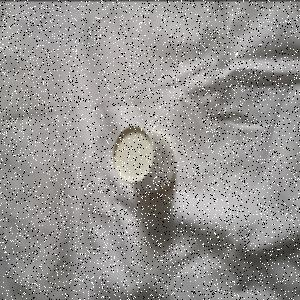Cup: (113, 124, 179, 198)
